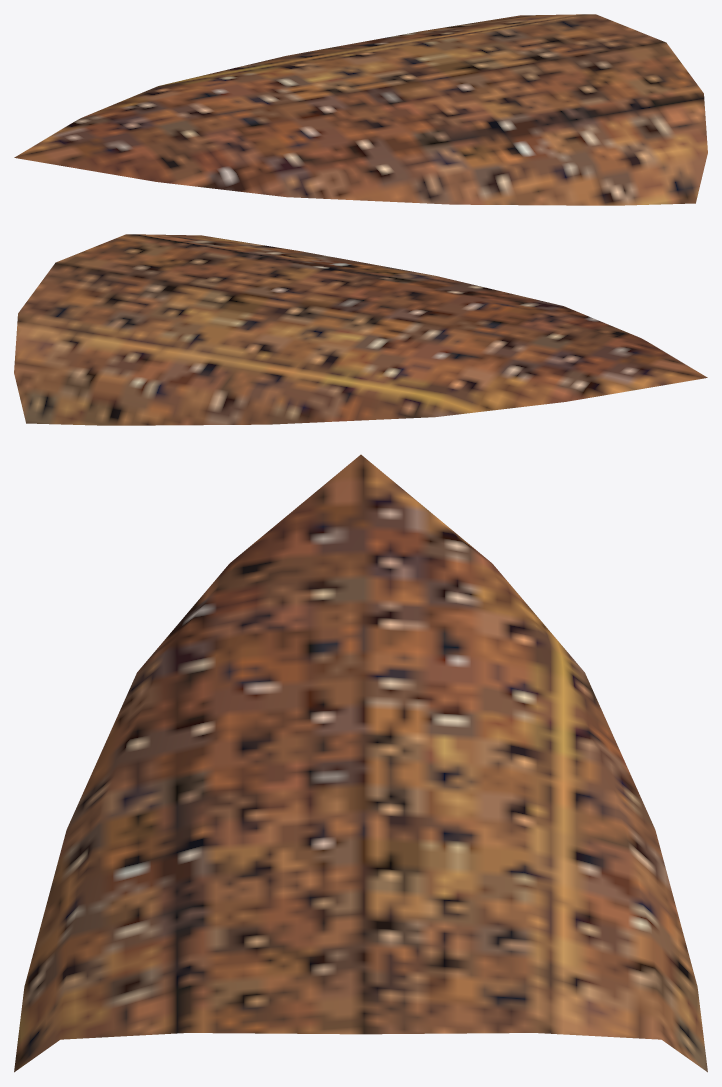
Rendered from ShieldKnight.fbx.
The picture shows the model from 3 angles, top to bottom: view 1: azimuth 30°, elevation 25°; view 2: azimuth 150°, elevation 25°; view 3: azimuth 270°, elevation 25°; orthographic projection. The views are drawn at different scales.
Parts seen in each view (by area): view 1: fi_vil_shield02_a; view 2: fi_vil_shield02_a; view 3: fi_vil_shield02_a.
Boxes of the visible parts, box(x1,y1,x2,y2) form: fi_vil_shield02_a: box(14, 14, 707, 205); fi_vil_shield02_a: box(14, 234, 707, 425); fi_vil_shield02_a: box(14, 454, 707, 1072).
Bounding box in the file's own units: 1.28 × 0.1991 × 0.7361.
1 material, 1 textured.
